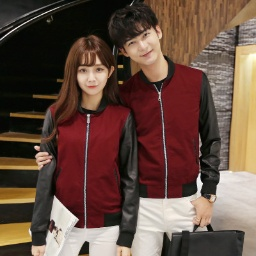face: (59, 34, 118, 102), (109, 7, 168, 67)
